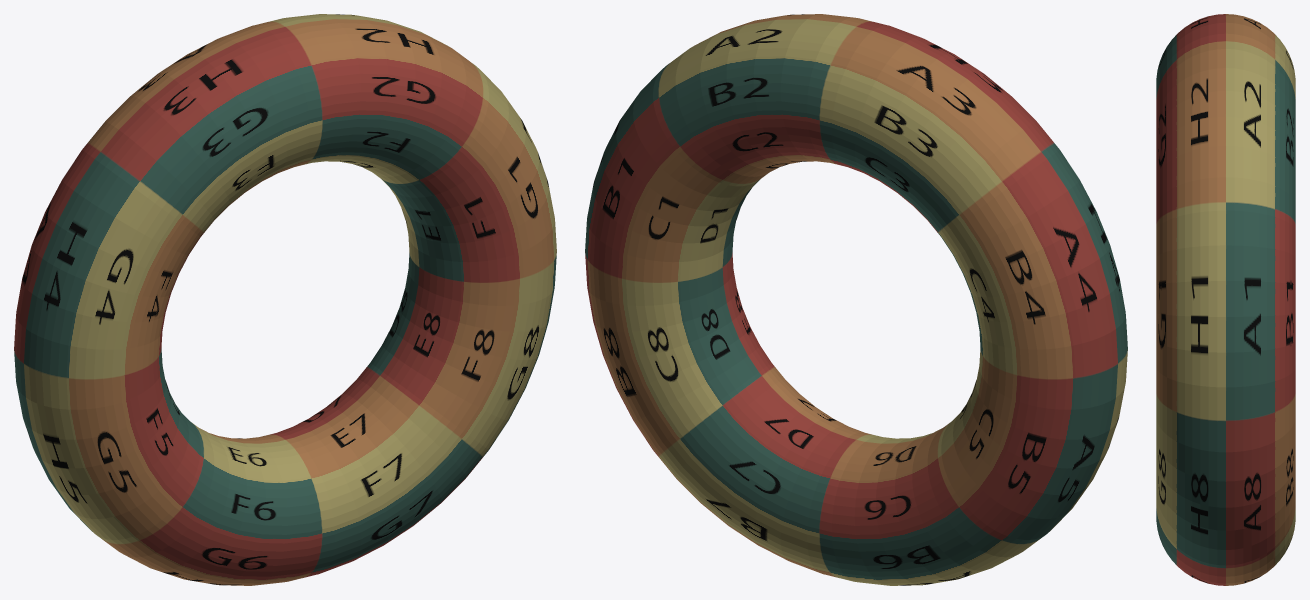
The model's file is texture_torus_R24_r24.glb.
3 views of the same model, side by side, from view 1: azimuth 30°, elevation 25°; view 2: azimuth 150°, elevation 25°; view 3: azimuth 270°, elevation 25° (orthographic). The views are drawn at different scales.
Parts seen in each view (by area): view 1: world; view 2: world; view 3: world.
Boxes of the visible parts, x1,y1,x2,y2 form: world: (14,14,556,585); world: (585,14,1127,585); world: (1156,14,1295,585).
Size of the model in its own units: 34.4 by 34.33 by 8.38.
Materials: 1 (1 with a texture image).
